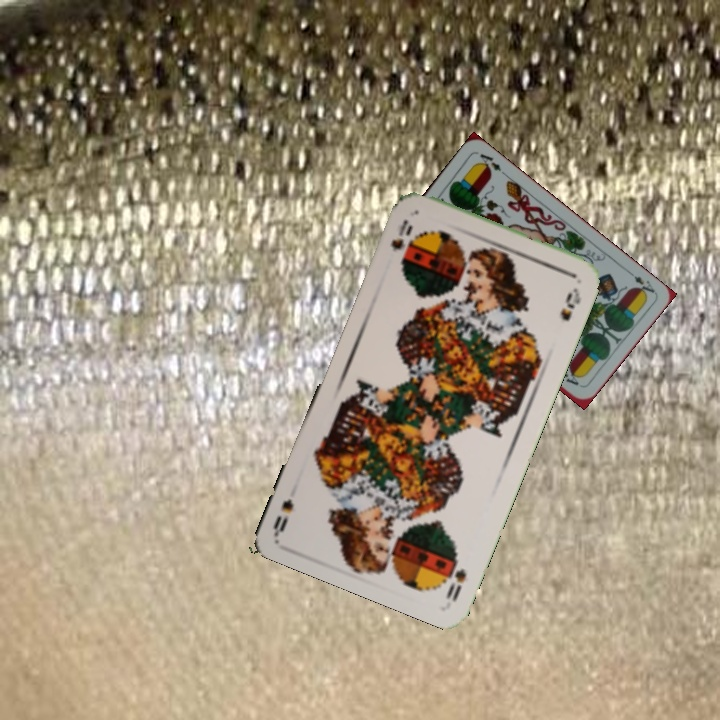EA: (623, 266, 658, 299)
SO: (441, 564, 469, 605), (387, 216, 416, 253)
